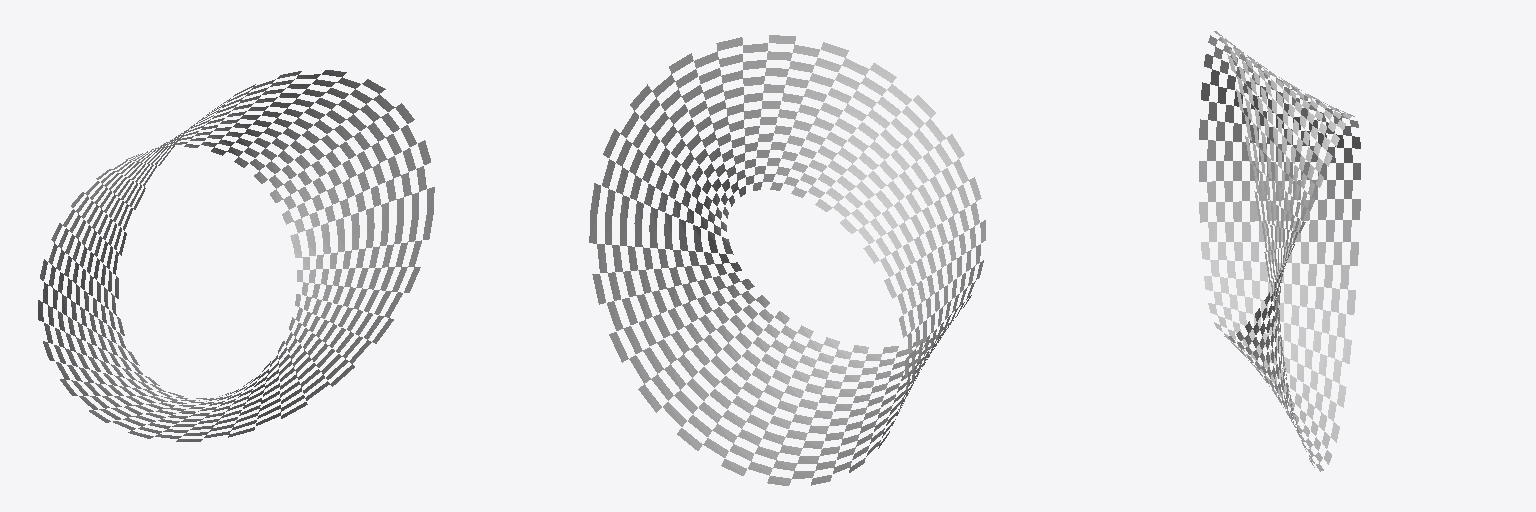
Rendered from mobiusOdd.obj.
The picture shows the model from 3 angles: view 1: azimuth 30°, elevation 25°; view 2: azimuth 150°, elevation 25°; view 3: azimuth 270°, elevation 25°; orthographic projection.
Parts seen in each view (by area): view 1: Mobius`; view 2: Mobius`; view 3: Mobius`.
Boxes of the visible parts, <box> form: Mobius`: <box>38,70,434,441</box>; Mobius`: <box>589,35,985,485</box>; Mobius`: <box>1199,31,1360,471</box>.
Bounding box in the file's own units: 2.53 × 2.73 × 0.9995.